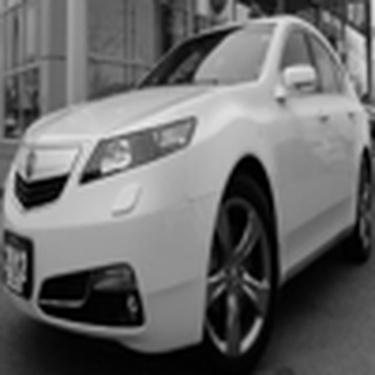car: (2, 12, 370, 371), (354, 82, 372, 137)
